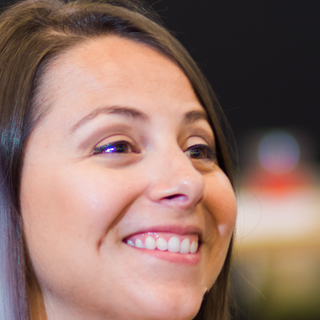eye: (90, 138, 139, 163), (178, 139, 216, 166)
